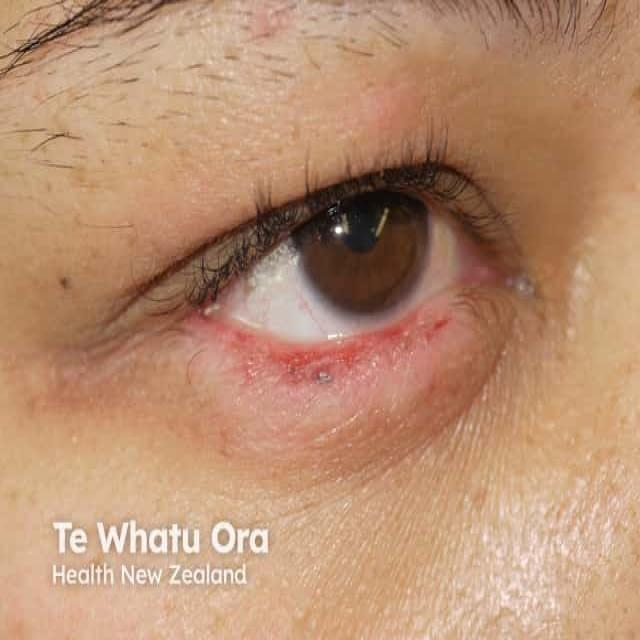lupus-detected: (180, 317, 507, 417)
